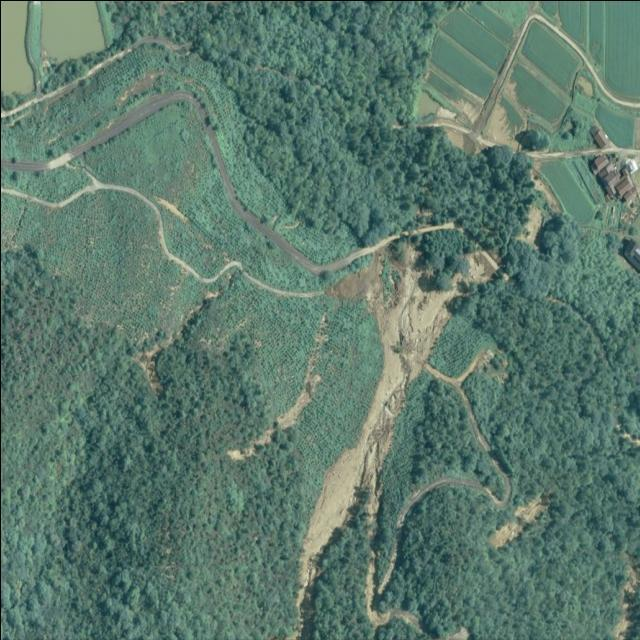landslide: (296, 243, 497, 621)
